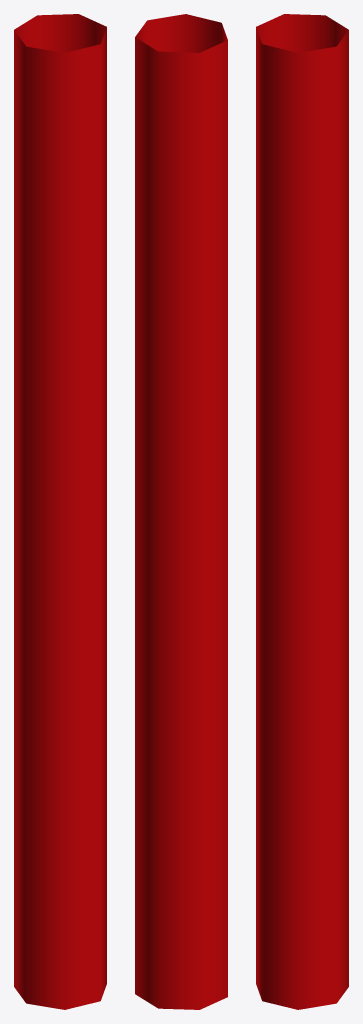
The model's file is BarraJanela.fbx.
The picture shows the model from 3 angles, left to right: view 1: azimuth 30°, elevation 25°; view 2: azimuth 150°, elevation 25°; view 3: azimuth 330°, elevation 25°; orthographic projection.
Visible parts, largest first — view 1: peito.004; view 2: peito.004; view 3: peito.004.
Part boxes in pixels (x1,y1,x2,y2): peito.004: (14, 14, 106, 1009); peito.004: (135, 14, 227, 1009); peito.004: (256, 14, 348, 1009).
Bounding box in the file's own units: 61.93 × 702 × 60.38.
